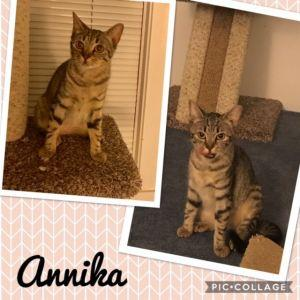bengal: (62, 5, 132, 79)
